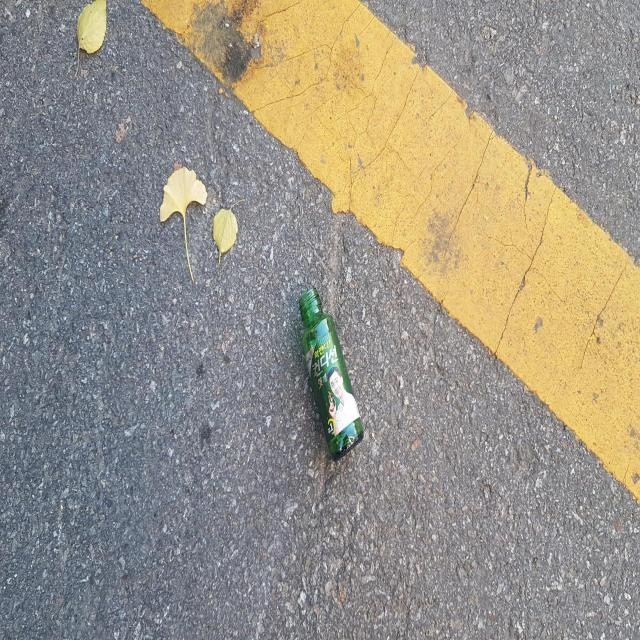glass: (300, 288, 364, 461)
